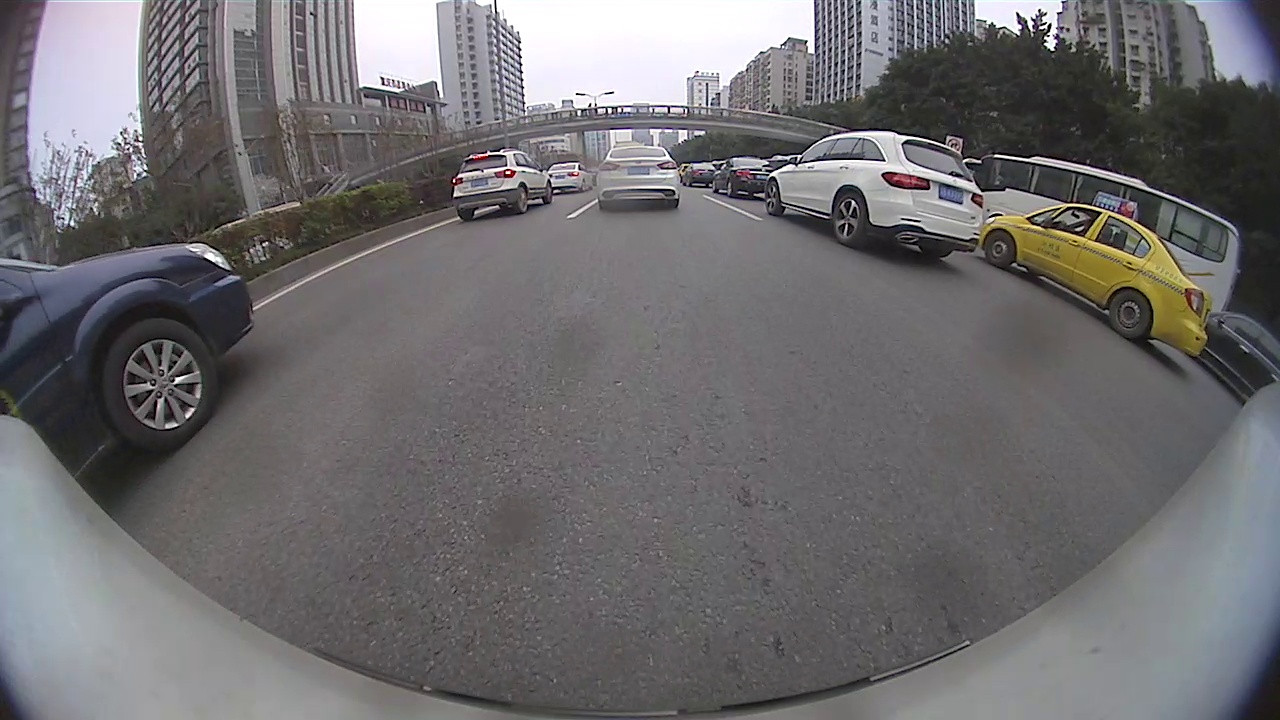bus: (968, 150, 1242, 316)
car: (0, 240, 256, 480), (983, 190, 1213, 358), (768, 126, 989, 261), (456, 150, 554, 222), (1210, 311, 1279, 398), (599, 147, 681, 213), (715, 156, 776, 200)
front: (100, 317, 221, 446), (983, 231, 1016, 268), (763, 180, 782, 215), (544, 182, 554, 202)
rear: (831, 191, 870, 249), (1108, 291, 1152, 341), (515, 184, 529, 212)
